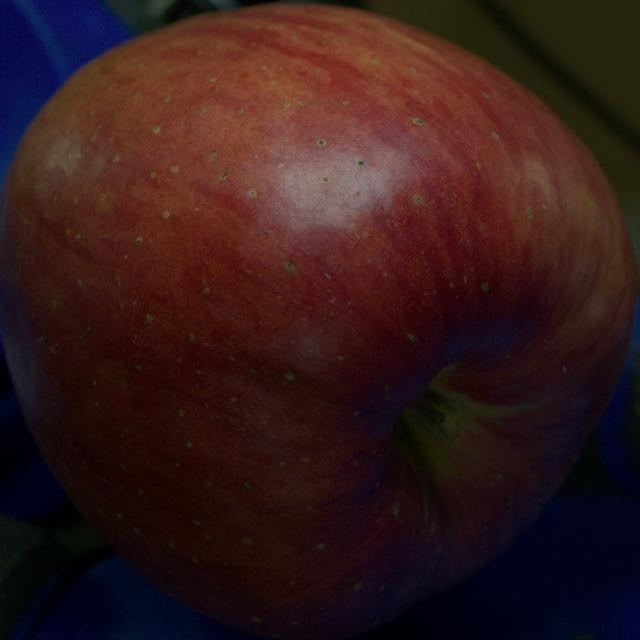apple: (0, 5, 637, 639)
